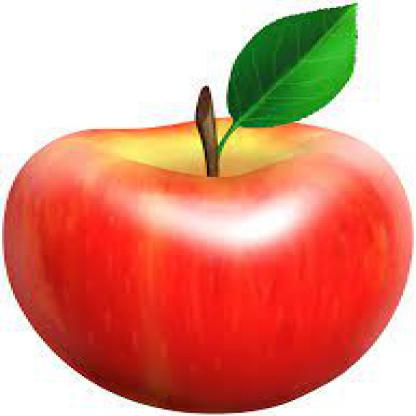Fresh: (0, 3, 414, 414)
